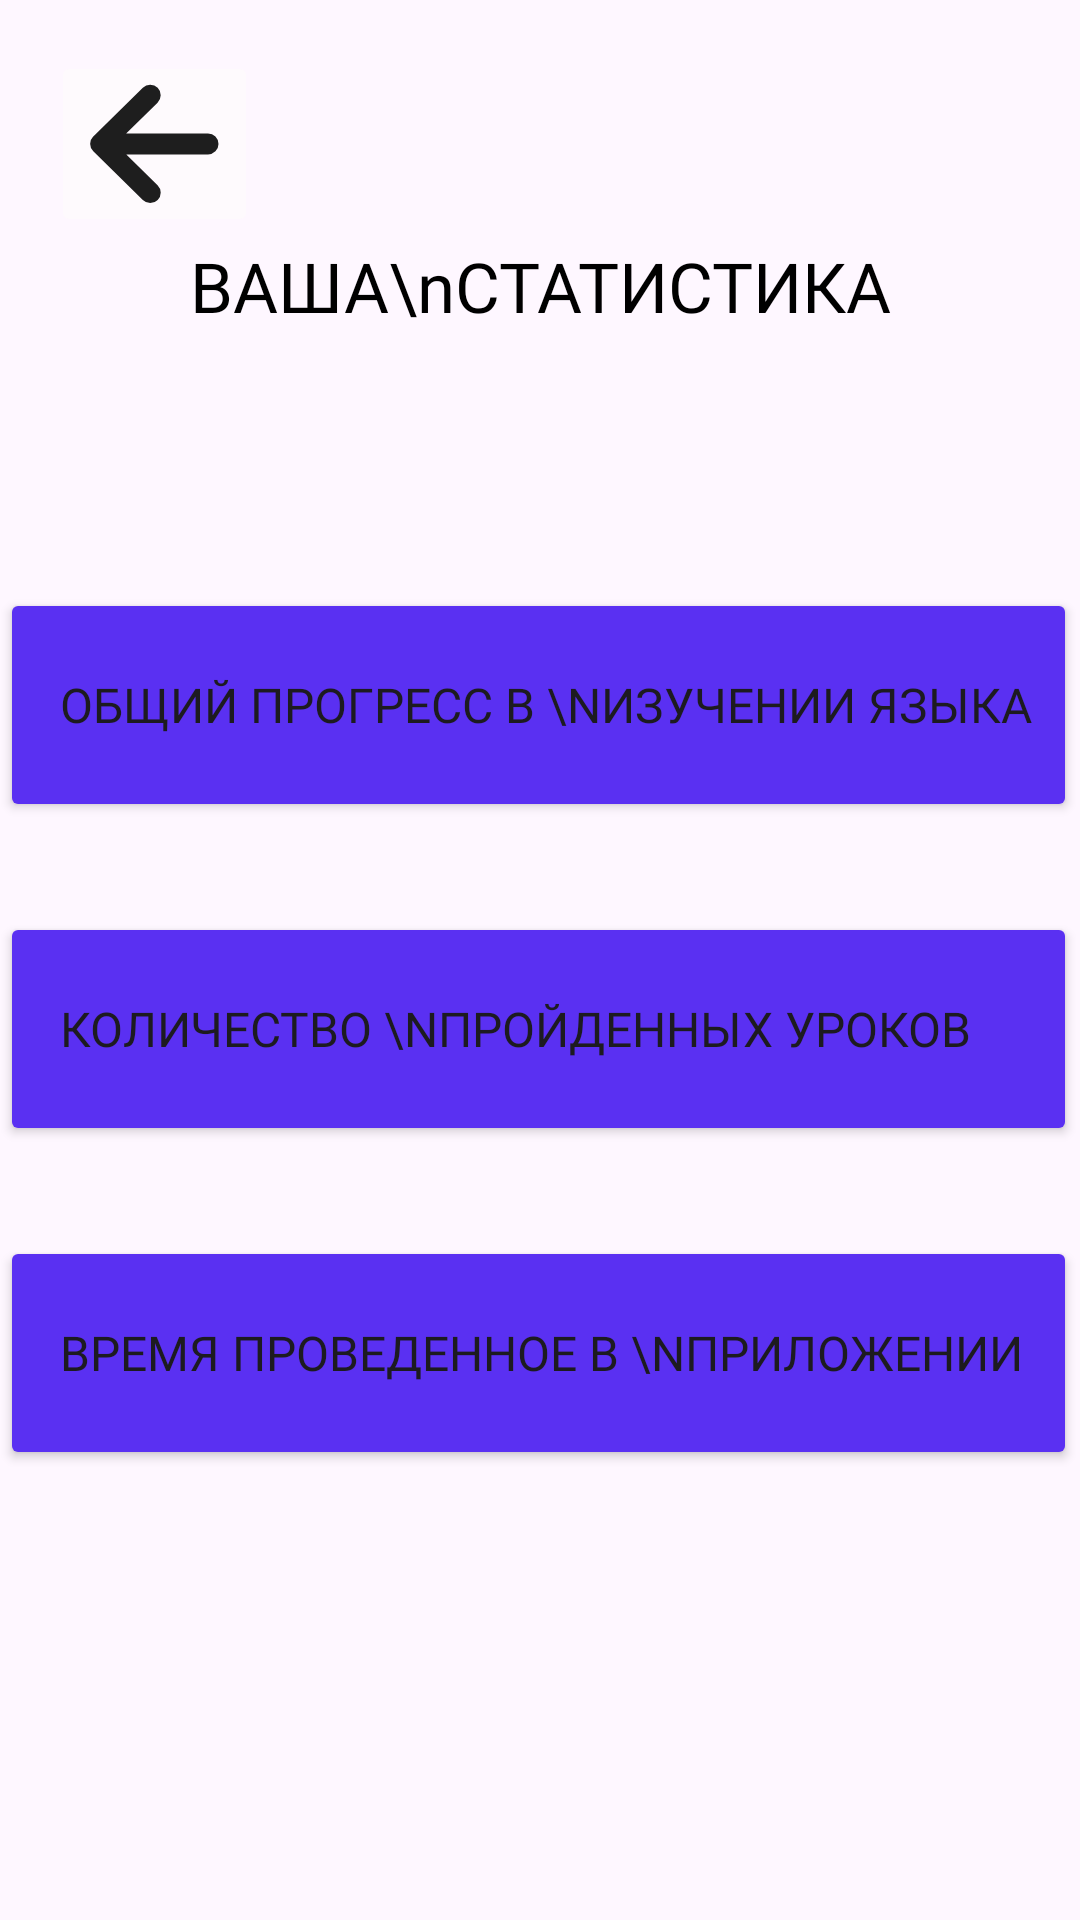

Icon bounding boxes for this 1080px x 1920px phone screenshot, format BBox(x1, y1, x2, y2):
ion arrow back: BBox(90, 84, 219, 203)
